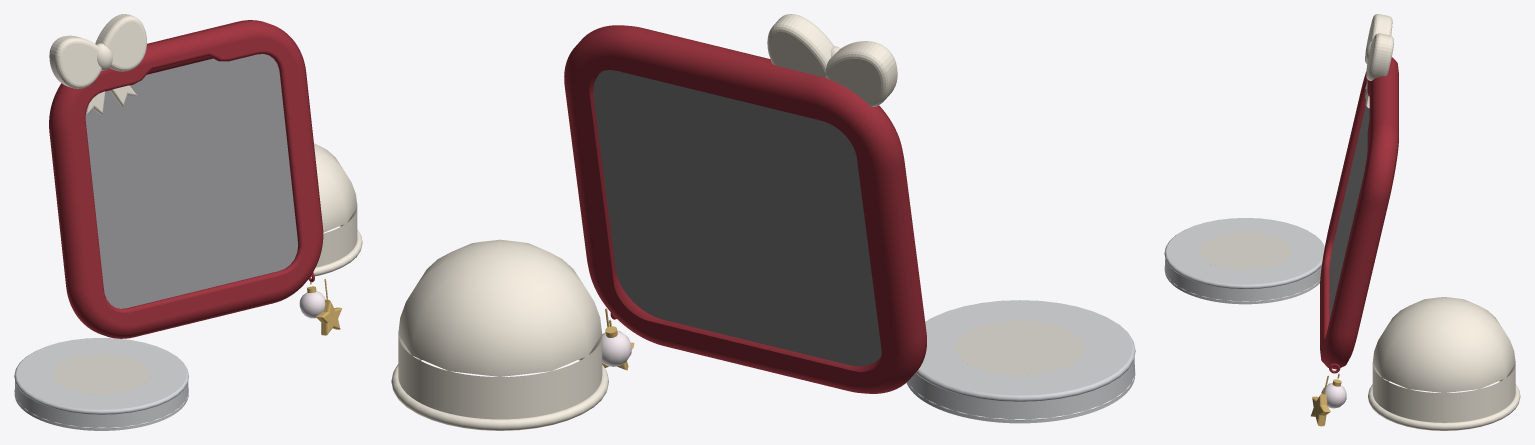
Rendered from holly.glb.
3 renders of one model, left to right at view 1: azimuth 30°, elevation 25°; view 2: azimuth 150°, elevation 25°; view 3: azimuth 270°, elevation 25°, orthographic. The views are drawn at different scales.
Parts seen in each view (by area): view 1: display-stand-in, object 3, object 1, object 22, object 4, object 23, object 20, object 17, object 7, object 5, object 16, object 21 (+4 smaller); view 2: display-stand-in, object 3, object 17, object 2, object 22, object 16, object 23, object 20, object 7, object 5, object 18, object 21 (+1 smaller); view 3: object 17, object 3, object 22, object 16, object 23, object 20, display-stand-in, object 4, object 18, object 1, object 5, object 21 (+3 smaller).
Boxes of the visible parts, x1,y1,x2,y2 form: display-stand-in: (85,54,298,308); object 3: (49,20,323,338); object 1: (72,38,315,325); object 22: (16,338,186,409); object 4: (83,50,304,313); object 23: (52,353,150,394); object 20: (14,353,188,430); object 17: (314,143,357,232); object 7: (49,35,101,88); object 5: (95,14,146,71); object 16: (315,207,357,267); object 21: (14,338,188,414); display-stand-in: (593,70,881,366); object 3: (564,25,926,393); object 17: (398,239,601,376); object 2: (574,56,896,385); object 22: (919,300,1132,395); object 16: (398,334,602,419); object 23: (955,320,1084,375); object 20: (906,357,1135,423); object 7: (825,41,897,106); object 5: (767,14,833,77); object 18: (391,356,608,430); object 21: (916,300,1135,401); object 17: (1372,297,1515,392); object 3: (1320,57,1398,369); object 22: (1166,218,1324,284); object 16: (1372,363,1515,422); object 23: (1200,232,1290,270); object 20: (1164,259,1321,304); display-stand-in: (1329,106,1369,319); object 4: (1322,77,1369,341); object 18: (1368,378,1520,430); object 1: (1320,72,1370,351); object 5: (1366,33,1393,80); object 21: (1164,218,1324,289).
Size of the model in its own units: 0.2847 by 0.2101 by 0.2187.
